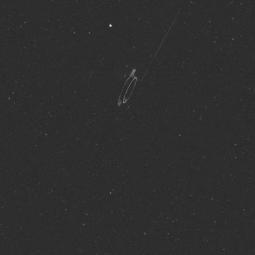earth_observation_sat_1: (86, 28, 146, 112)
